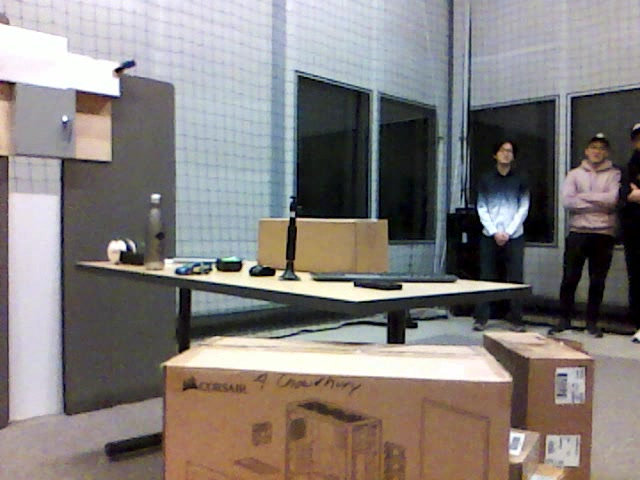box: (165, 337, 512, 480), (483, 331, 592, 480), (256, 218, 388, 275)
